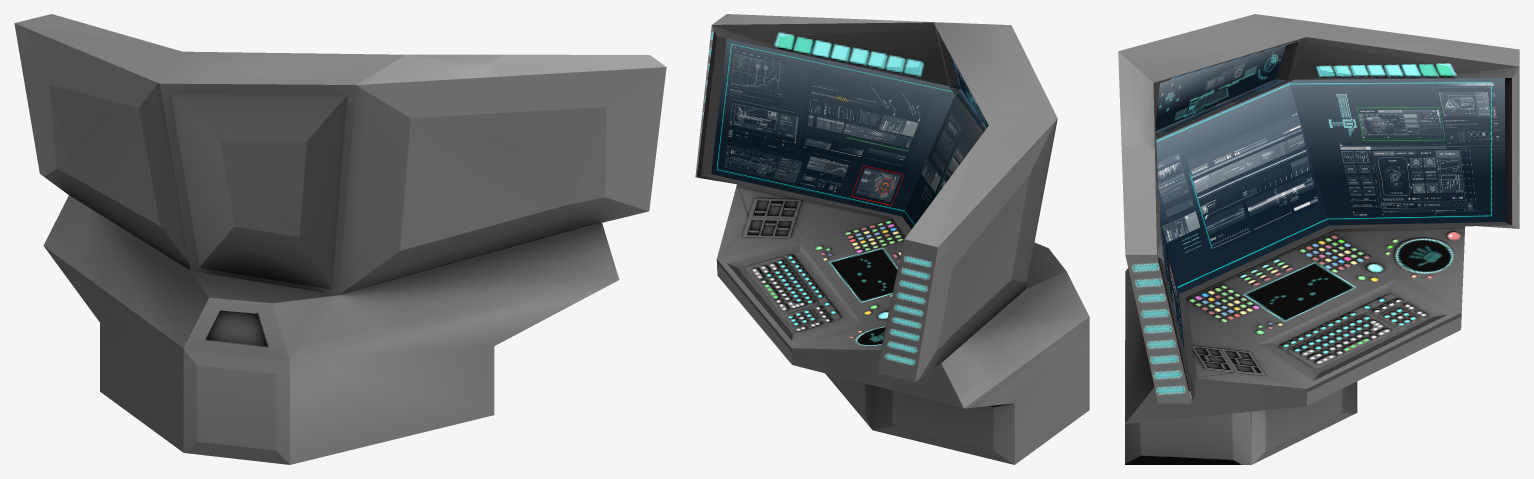
The model's file is Sci-Fi-Computer.fbx.
3 views of the same model, side by side, from view 1: azimuth 30°, elevation 25°; view 2: azimuth 150°, elevation 25°; view 3: azimuth 270°, elevation 25° (orthographic). The views are drawn at different scales.
Parts seen in each view (by area): view 1: Cube.008; view 2: Cube.008; view 3: Cube.008.
Boxes of the visible parts, bbox=[...] form: Cube.008: bbox=[14, 14, 666, 464]; Cube.008: bbox=[695, 14, 1089, 464]; Cube.008: bbox=[1118, 14, 1519, 464].
Size of the model in its own units: 396 by 313 by 327.
Materials: 2 (2 with a texture image).
